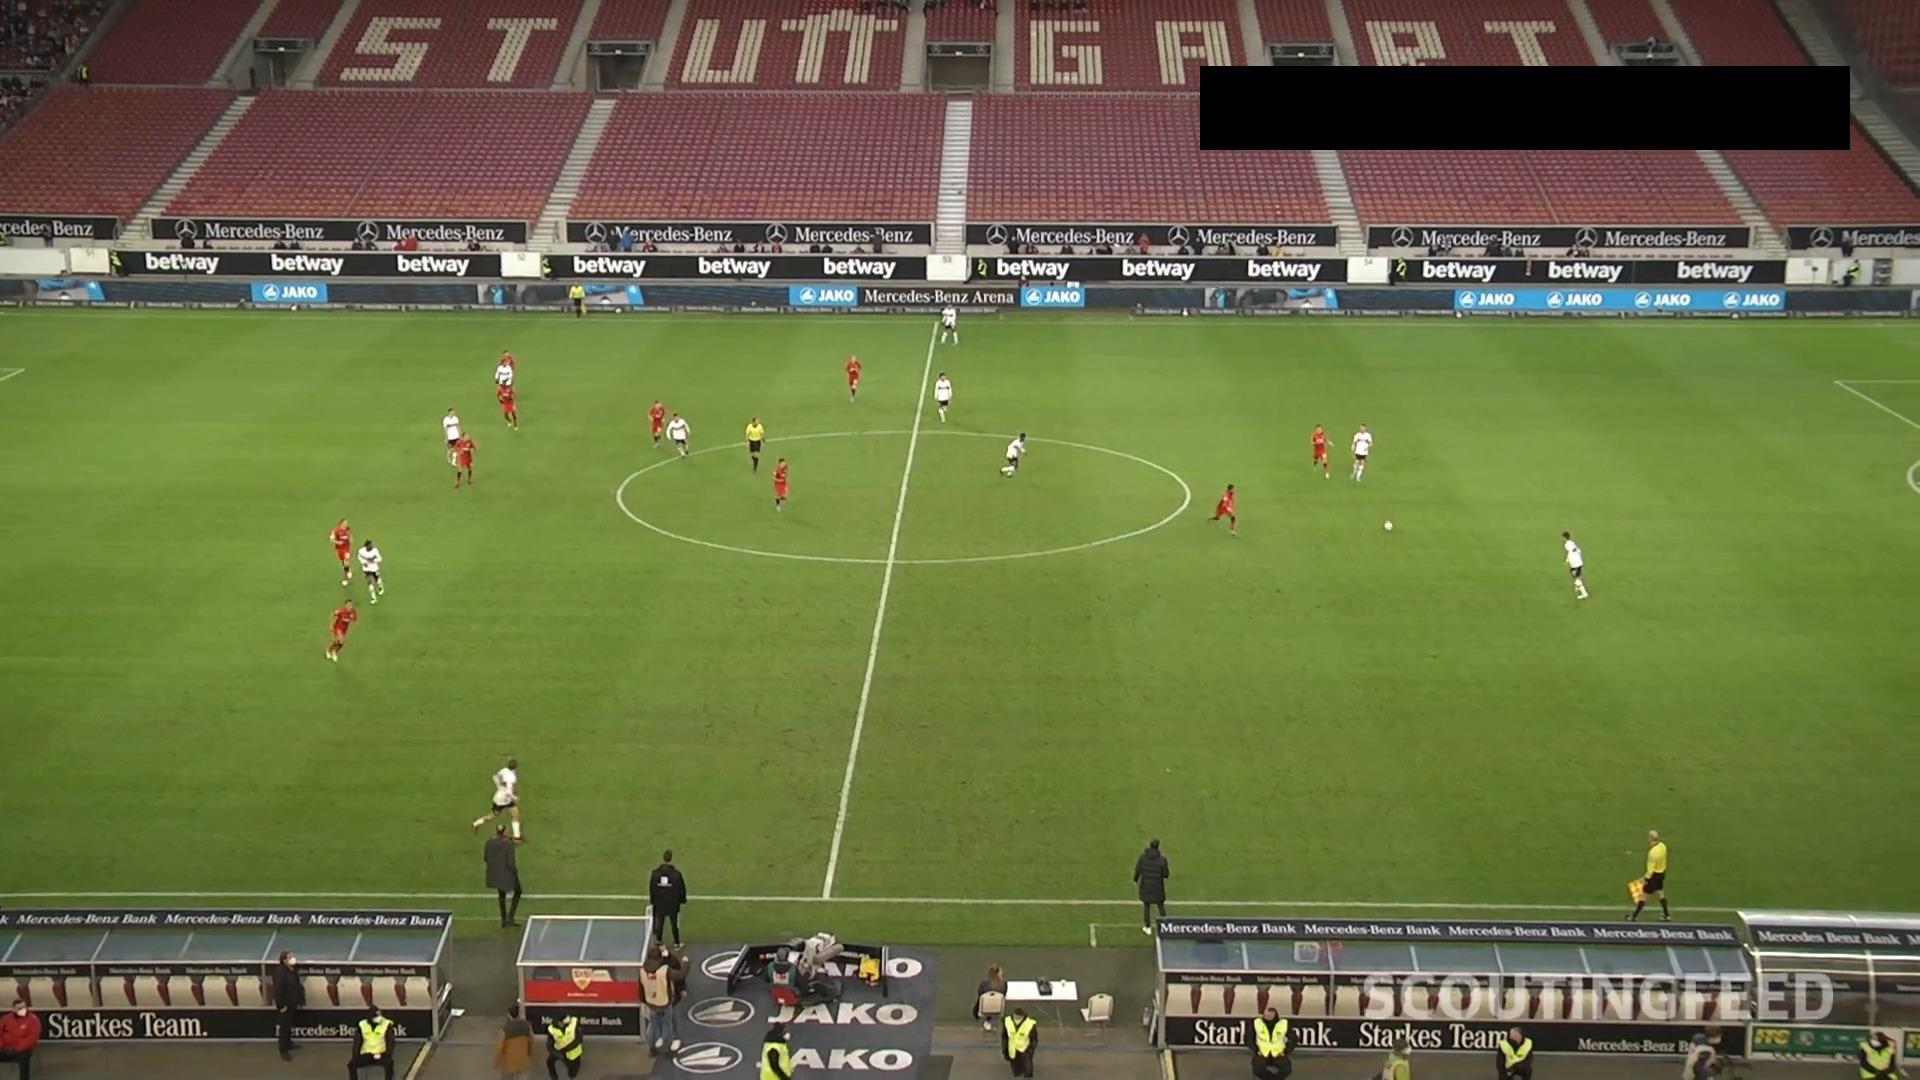ball: (1381, 518, 1394, 533)
